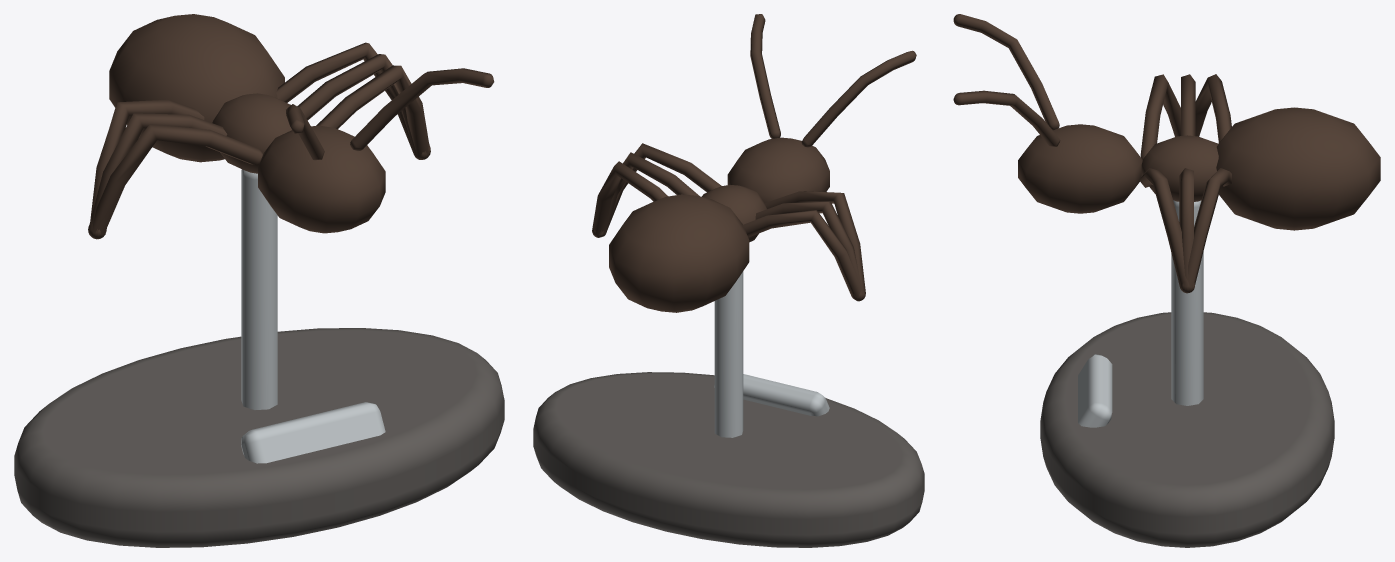
The model's file is ant_model.glb.
The picture shows the model from 3 angles, left to right: view 1: azimuth 30°, elevation 25°; view 2: azimuth 150°, elevation 25°; view 3: azimuth 270°, elevation 25°; orthographic projection. The views are drawn at different scales.
Parts seen in each view (by area): view 1: ant_model_mesh; view 2: ant_model_mesh; view 3: ant_model_mesh.
Part boxes in pixels (x1,y1,x2,y2): ant_model_mesh: (14,14,504,547); ant_model_mesh: (533,14,924,547); ant_model_mesh: (953,14,1380,547).
Bounding box in the file's own units: 0.34 × 0.3349 × 0.3193.
